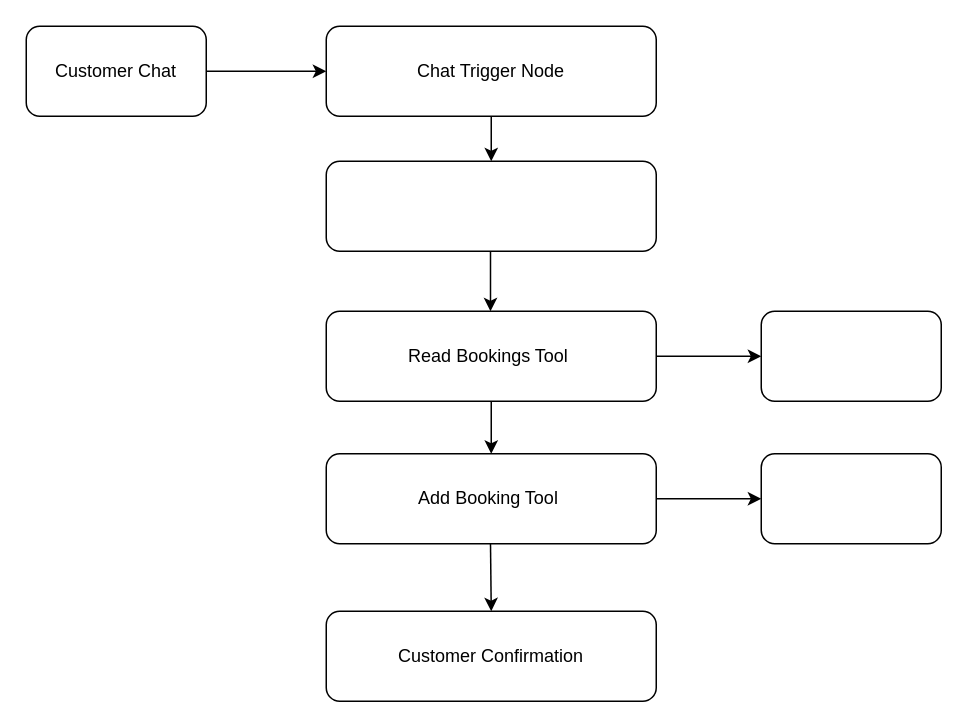
Image size: 968x728. Some labels were removed from this diagram. The shapes that lost their labels are listed below. From the top down, each one's centre as x and y in pixels, then its label:
point (490, 205): AI Agent (Google Gemini + Memory)
point (850, 355): Check Conflicts
point (850, 498): Update Google Sheets
